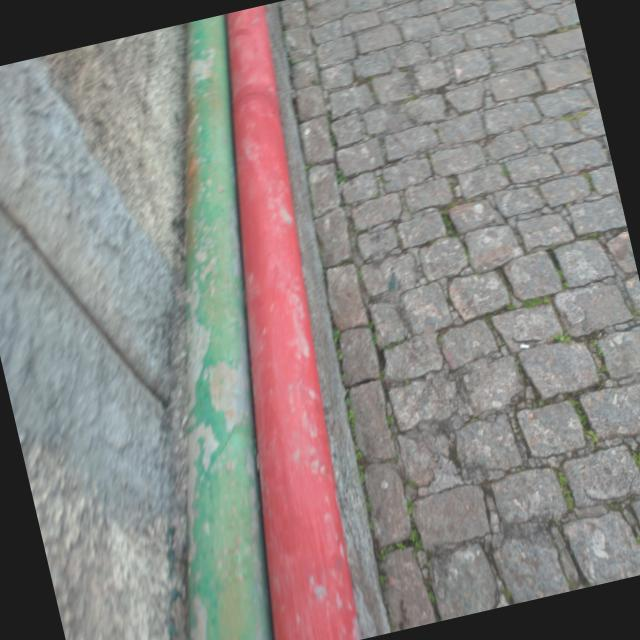gas: (226, 15, 364, 640), (189, 29, 267, 640)
